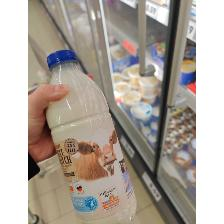Milch: (44, 48, 138, 224)
